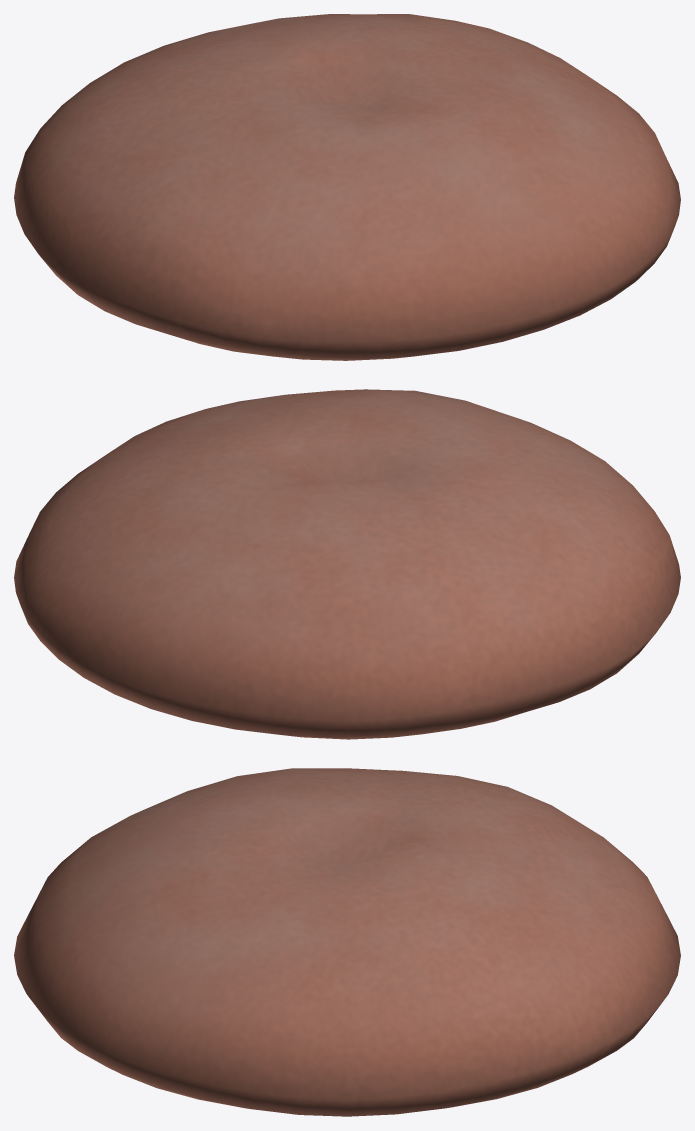
File: Cushion 2.fbx
The picture shows the model from 3 angles, top to bottom: view 1: azimuth 30°, elevation 25°; view 2: azimuth 150°, elevation 25°; view 3: azimuth 270°, elevation 25°; orthographic projection.
Parts seen in each view (by area): view 1: Cushion 2; view 2: Cushion 2; view 3: Cushion 2.
Part boxes in pixels (x1,y1,x2,y2): Cushion 2: (14, 14, 680, 360); Cushion 2: (14, 389, 680, 739); Cushion 2: (14, 768, 680, 1116).
Bounding box in the file's own units: 0.4 × 0.12 × 0.4.
Materials: 1 (1 with a texture image).
